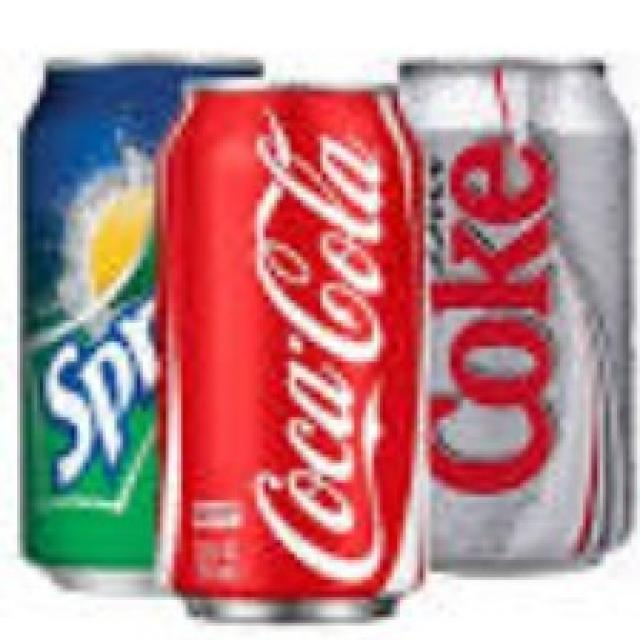metel: (164, 66, 443, 636), (395, 51, 637, 558), (24, 60, 164, 596)
